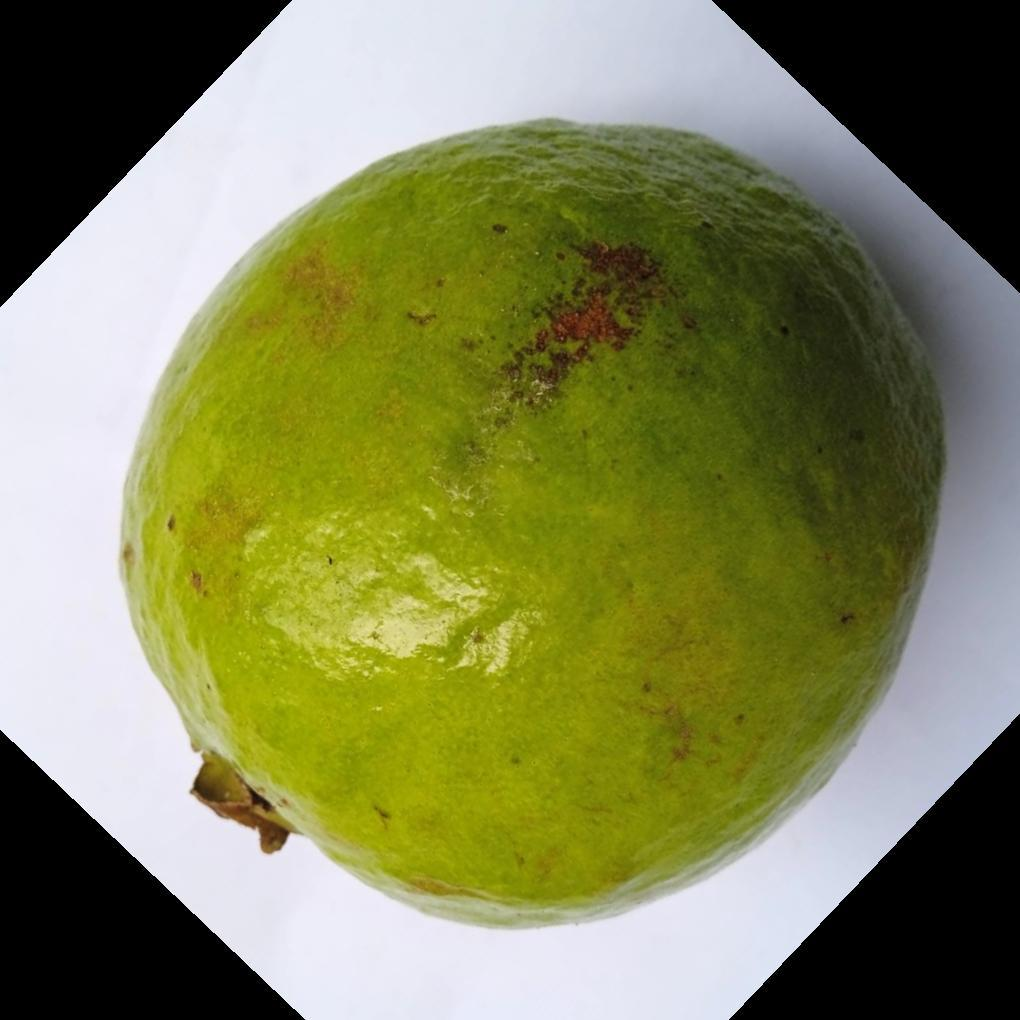FreshGuava: (115, 120, 949, 933)
